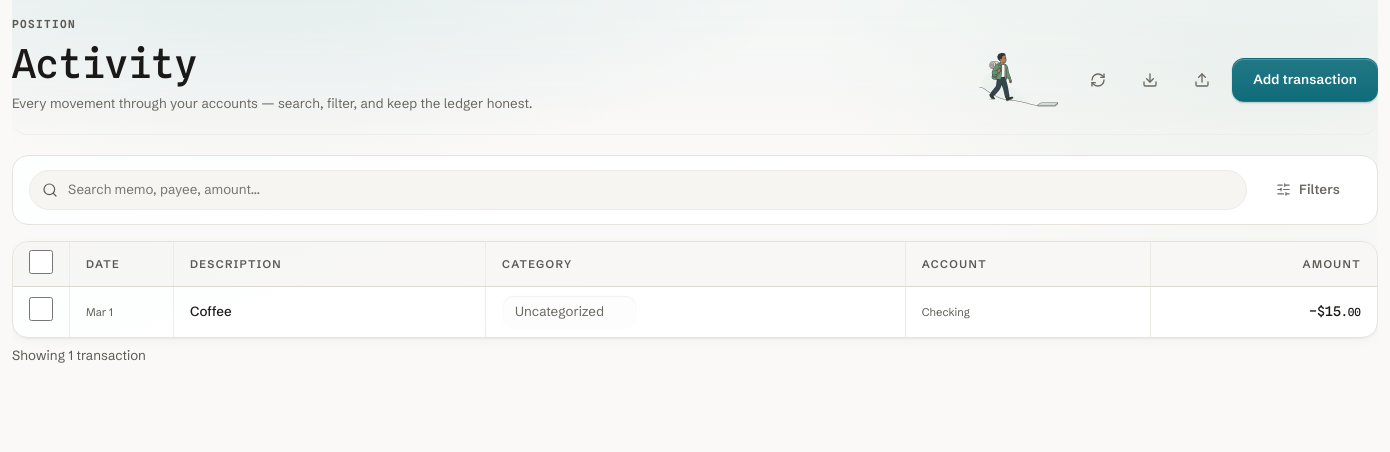
it: TransactionsPage › reveals the bulk action bar once a row is selected
The image size is (1390, 452).
Click the checkbox named "select coffee": (41, 309) x1=29 y1=297 x2=53 y2=321
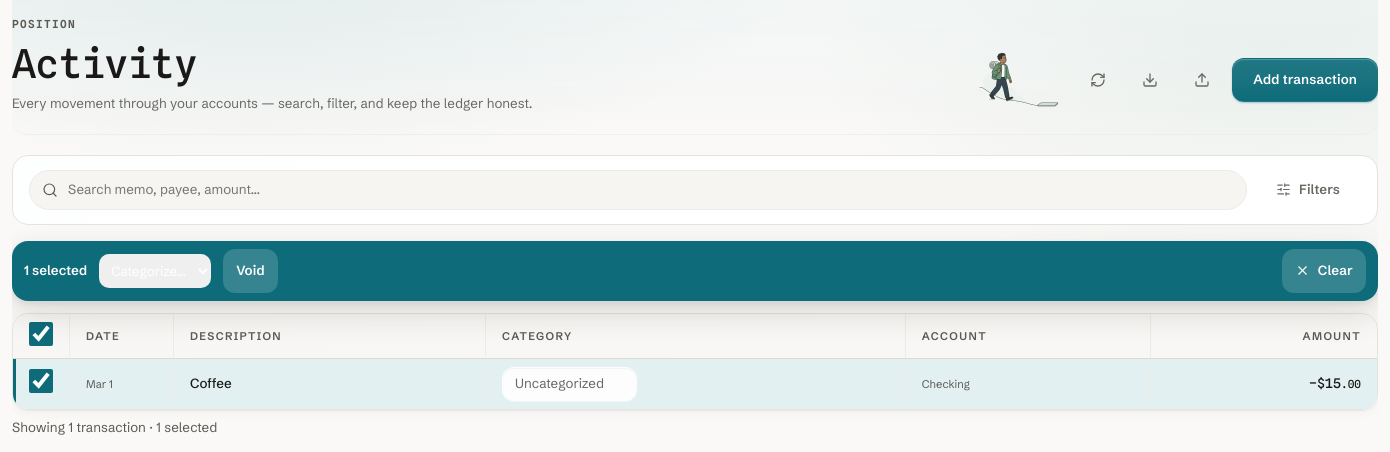
Expected: the element named "bulk actions" is shown, x1=12 y1=241 x2=1378 y2=301
Expected: the text "1 selected" is shown, x1=24 y1=261 x2=87 y2=281
Expected: the dropdown named "set category for selected" is shown, x1=99 y1=254 x2=211 y2=288
